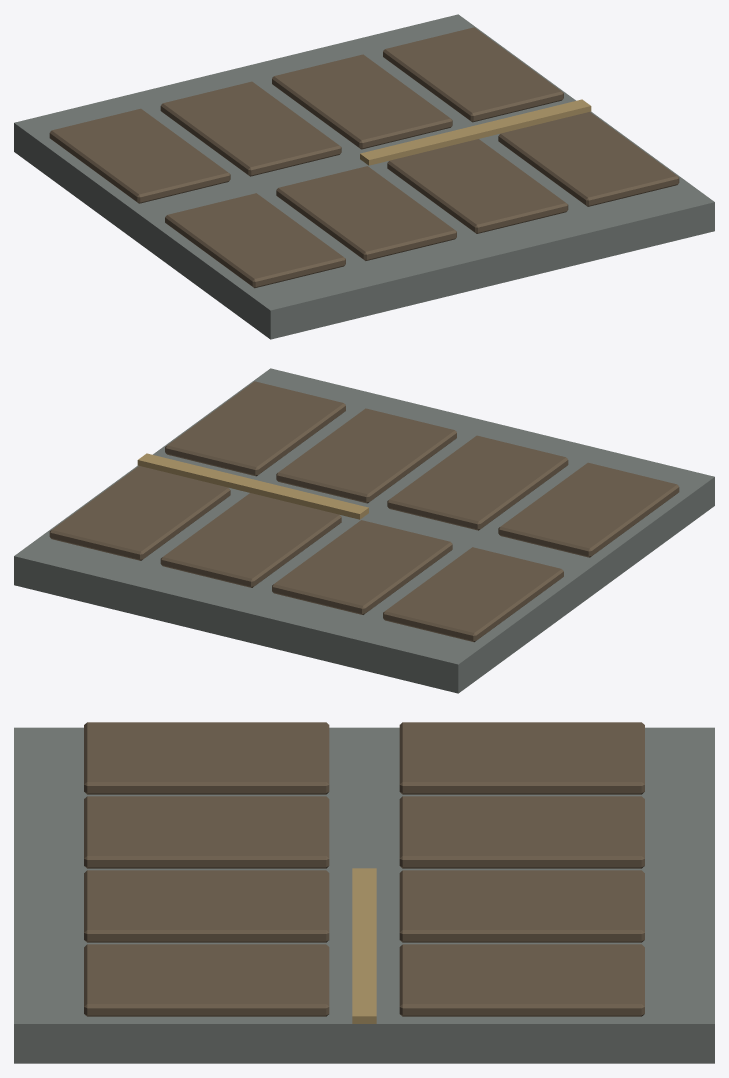
Rendered from terrain-cobble-corner.lod0.glb.
The picture shows the model from 3 angles, top to bottom: view 1: azimuth 30°, elevation 25°; view 2: azimuth 150°, elevation 25°; view 3: azimuth 270°, elevation 25°; orthographic projection. The views are drawn at different scales.
Visible parts, largest first — view 1: terrain-cobble-corner__body; view 2: terrain-cobble-corner__body; view 3: terrain-cobble-corner__body.
Boxes of the visible parts, x1,y1,x2,y2 form: terrain-cobble-corner__body: (14,14,714,339); terrain-cobble-corner__body: (14,368,714,693); terrain-cobble-corner__body: (14,722,714,1063).
Size of the model in its own units: 2 by 0.165 by 2.
